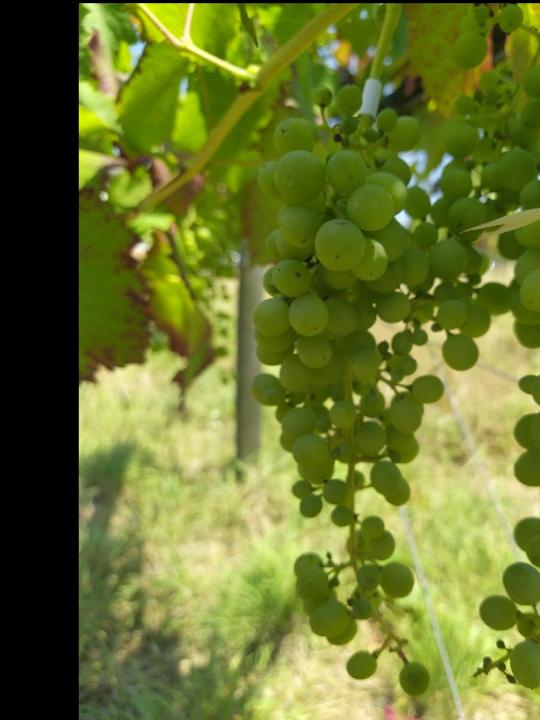grape: (249, 79, 514, 697)
